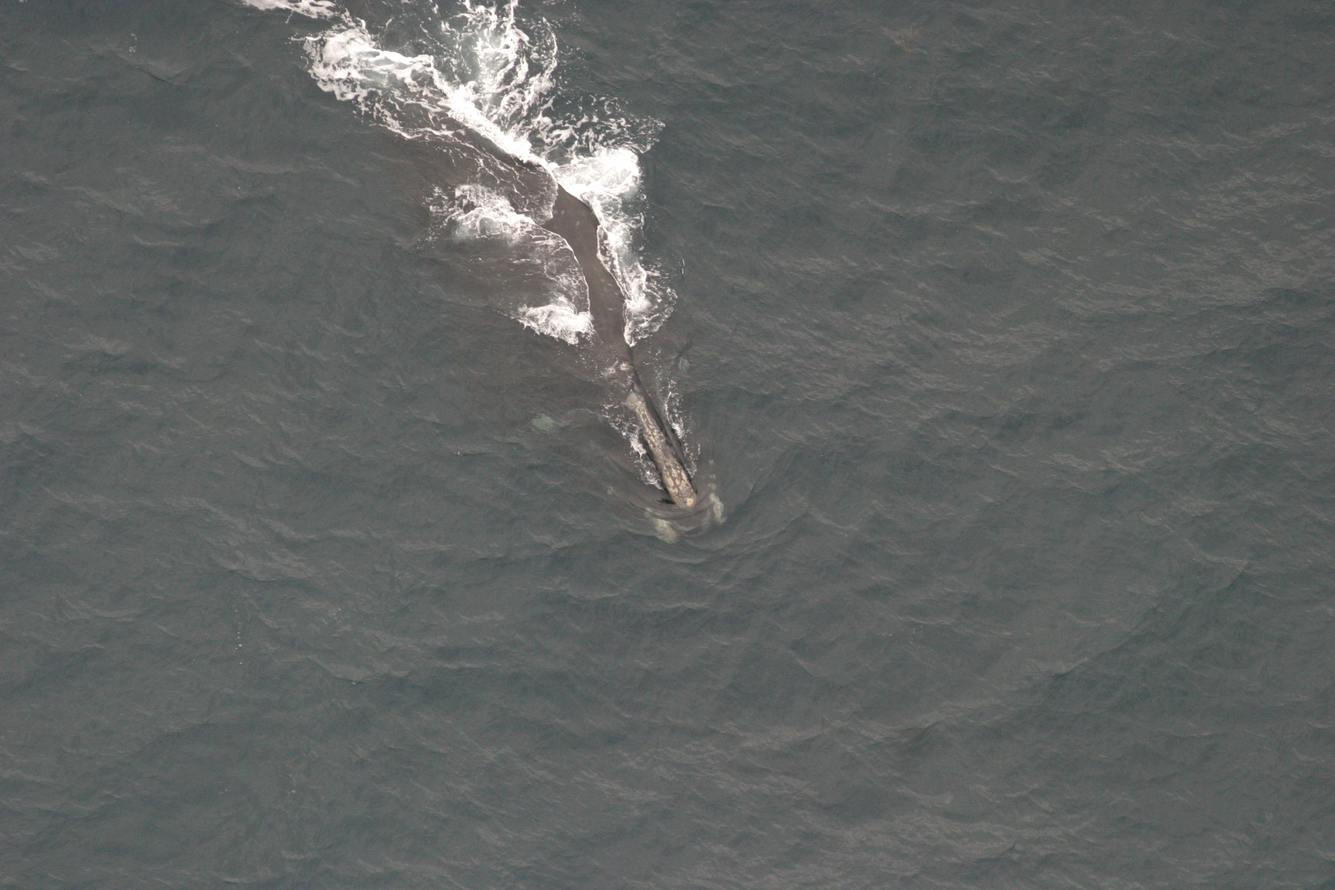whale: (475, 87, 733, 556)
